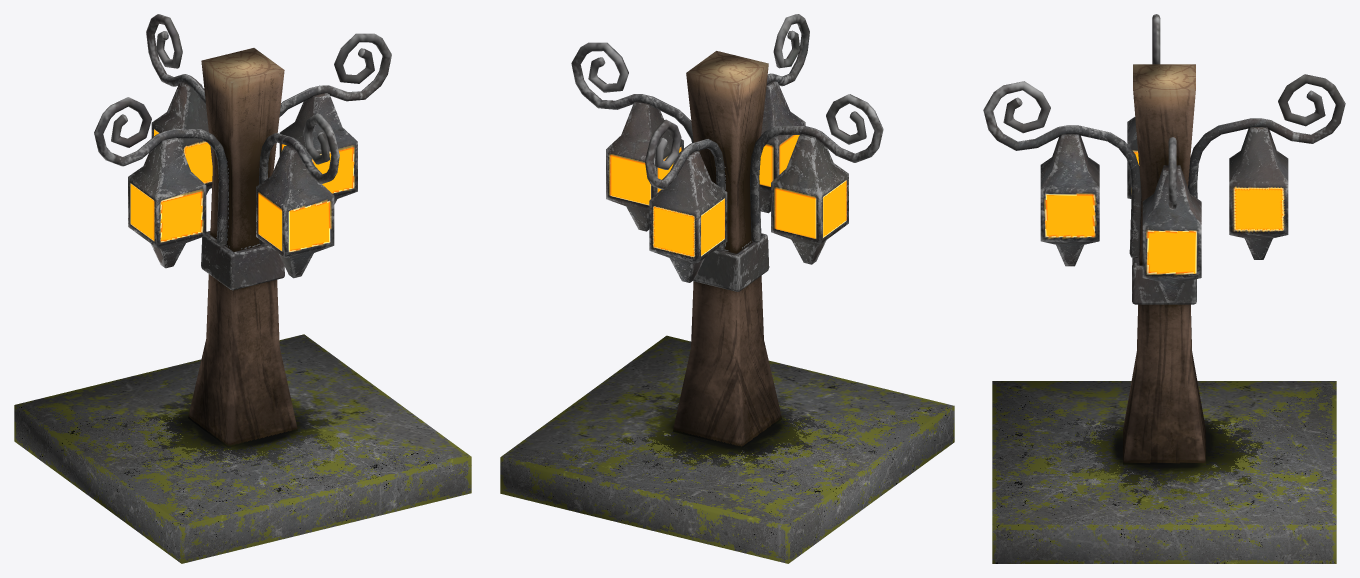
File: lamp.fbx
3 renders of one model, left to right at view 1: azimuth 30°, elevation 25°; view 2: azimuth 150°, elevation 25°; view 3: azimuth 270°, elevation 25°, orthographic. The views are drawn at different scales.
Visible parts, largest first — view 1: Cube.002; view 2: Cube.002; view 3: Cube.002.
Part boxes in pixels (x1,y1,x2,y2): Cube.002: [14, 14, 471, 563]; Cube.002: [500, 14, 954, 563]; Cube.002: [983, 14, 1345, 563].
Bounding box in the file's own units: 207 × 261 × 207.
